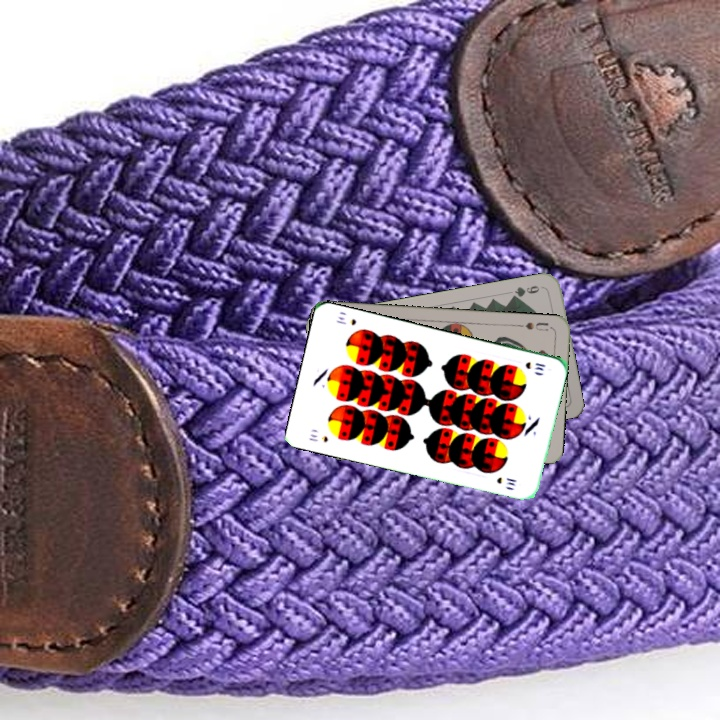G9: (507, 281, 546, 302)
S10: (521, 358, 548, 373), (305, 430, 331, 445)
SU: (514, 318, 554, 334)
